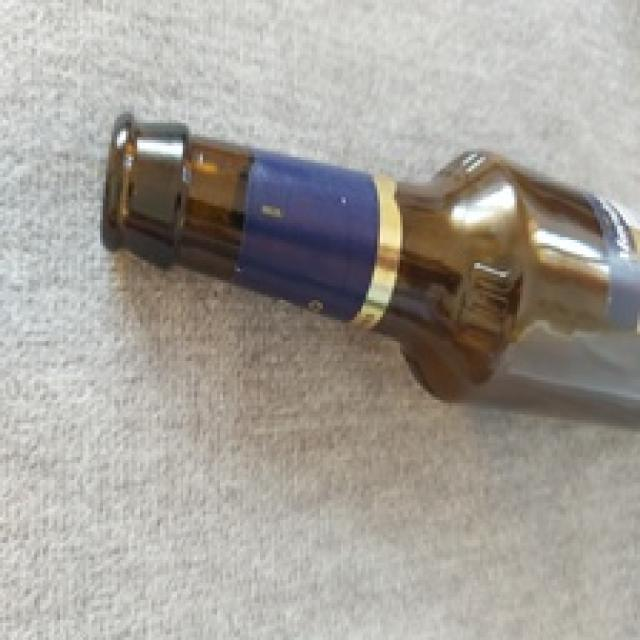Glass: (106, 108, 640, 432)
